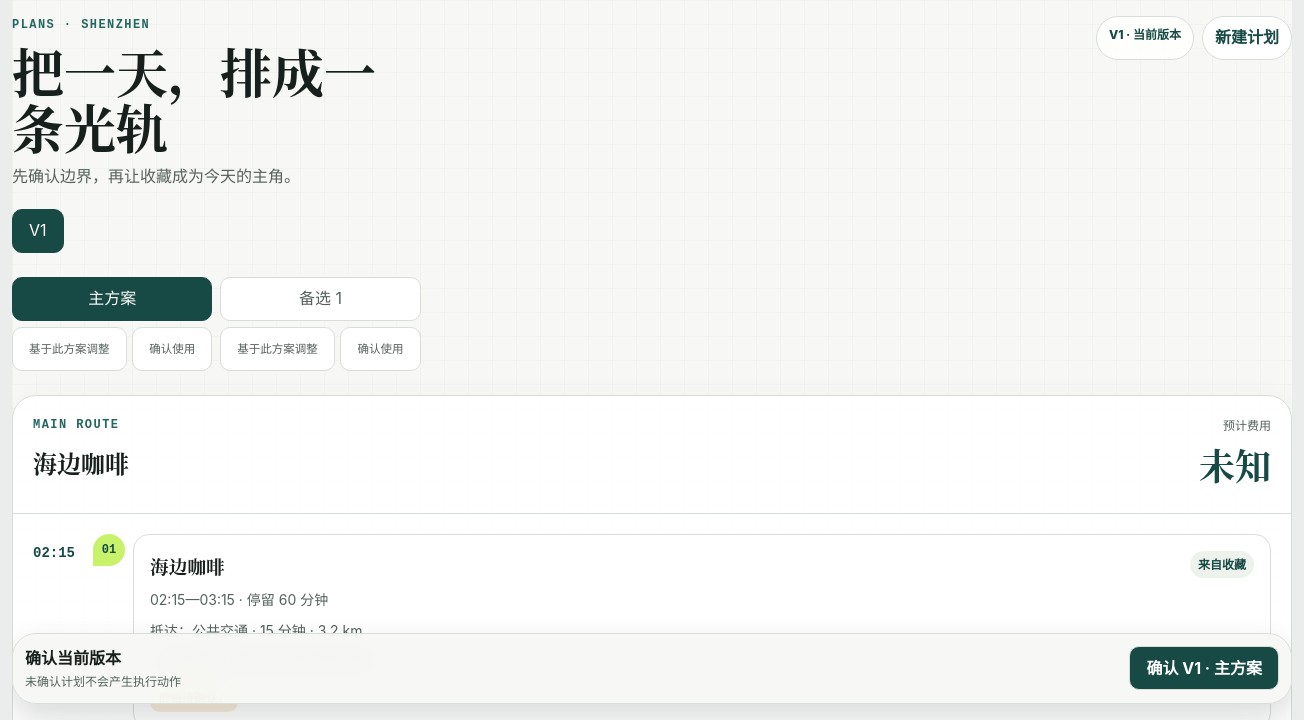
PlansExperience › renders main and alternative time rails with cost, route, source, and risk
Check: the heading "海边咖啡" below "Main route" is shown, box [33,445,129,480]
Check: the text "未知" is shown, box [1199,436,1271,493]
Click the tab "备选 1" at (320, 299), box [220,277,421,321]
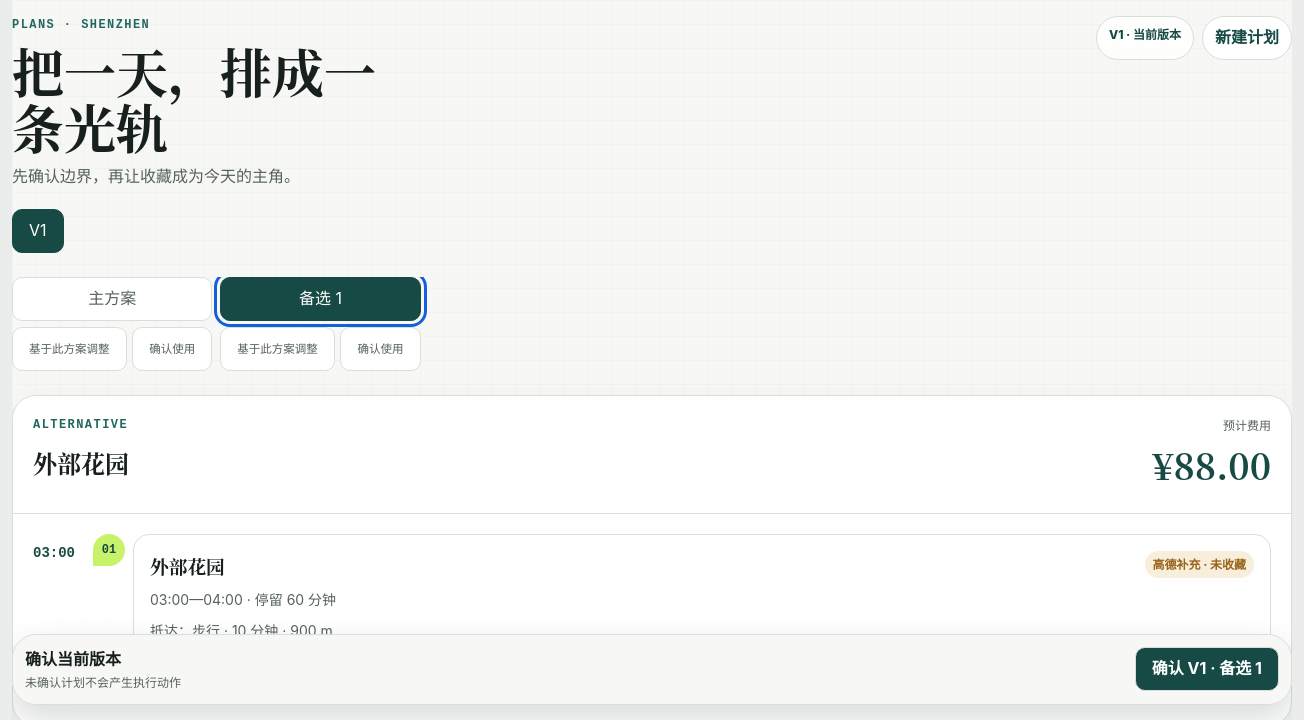
Check: the heading "外部花园" below "Alternative" is shown, box [33,445,129,480]
Check: the text "高德补充 · 未收藏" is shown, box [1144,551,1254,578]
Check: the text "¥88.00" is shown, box [1152,436,1271,493]
